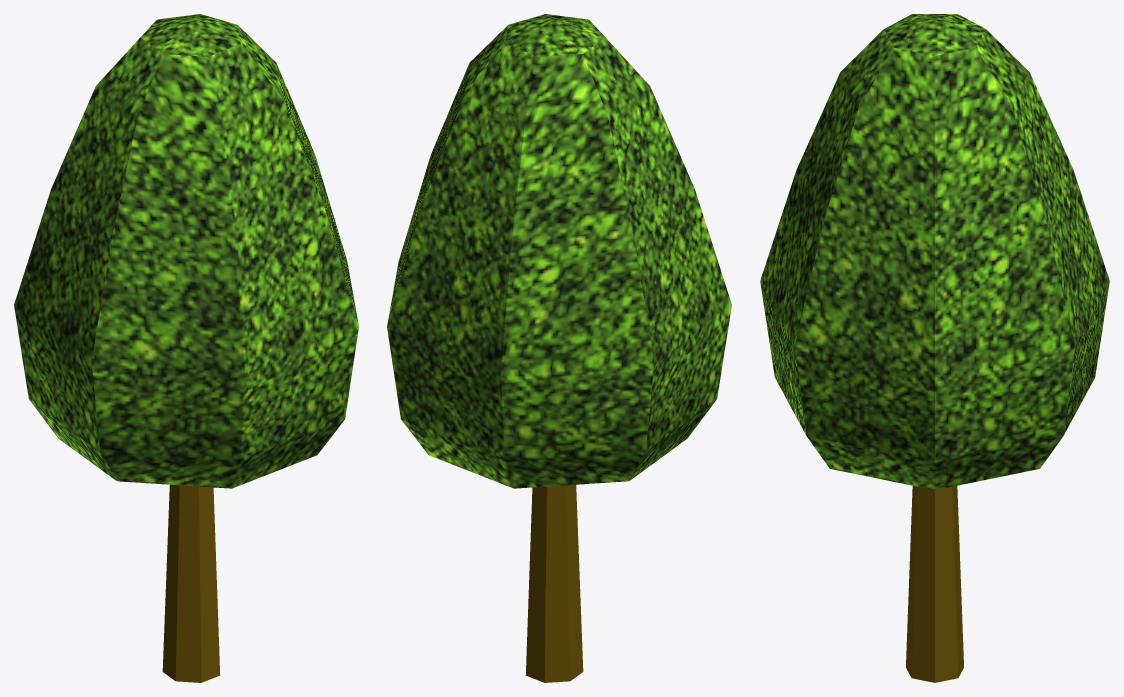
Rendered from tree.dae.
3 views of the same model, side by side, from view 1: azimuth 30°, elevation 25°; view 2: azimuth 150°, elevation 25°; view 3: azimuth 270°, elevation 25° (orthographic).
Visible parts, largest first — view 1: Layer_02zt; view 2: Layer_02zt; view 3: Layer_02zt.
Part boxes in pixels (bbox=[...]): Layer_02zt: bbox=[14, 14, 358, 682]; Layer_02zt: bbox=[387, 14, 731, 682]; Layer_02zt: bbox=[760, 14, 1109, 682].
Bounding box in the file's own units: 1.9 × 4 × 1.95.
Materials: 2 (1 with a texture image).
